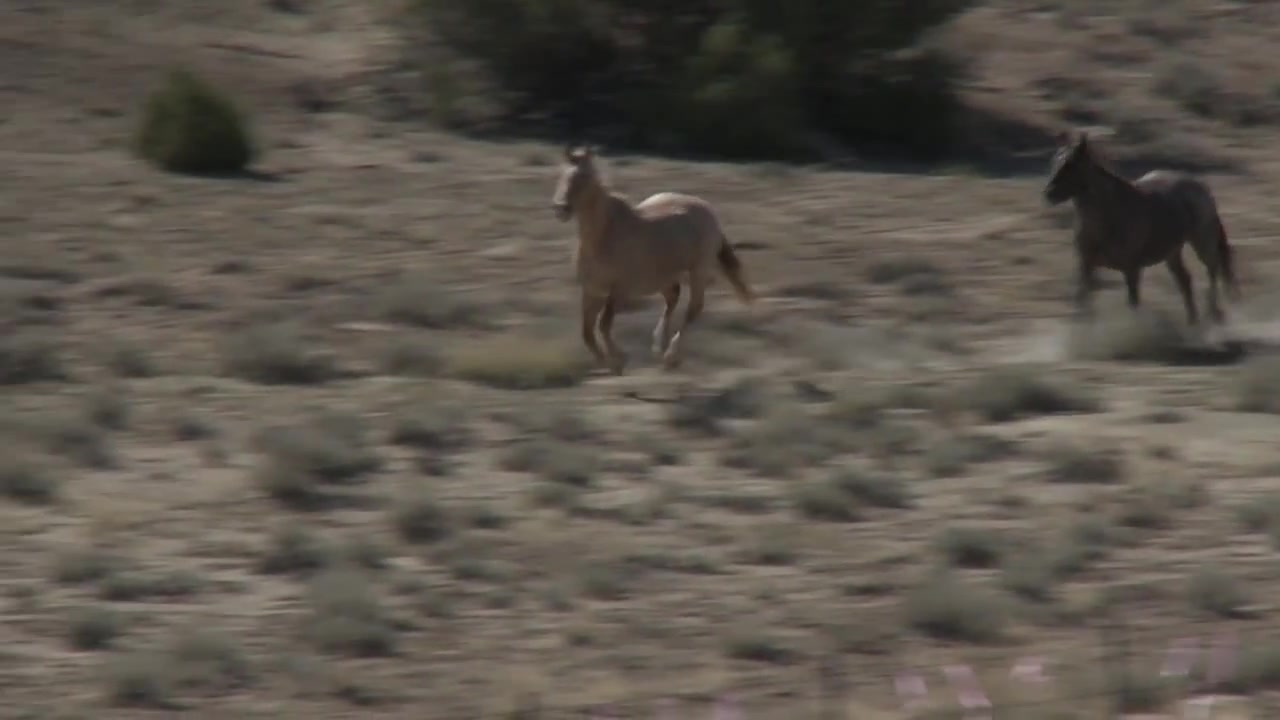horse: (550, 143, 754, 368), (1039, 129, 1246, 329)
